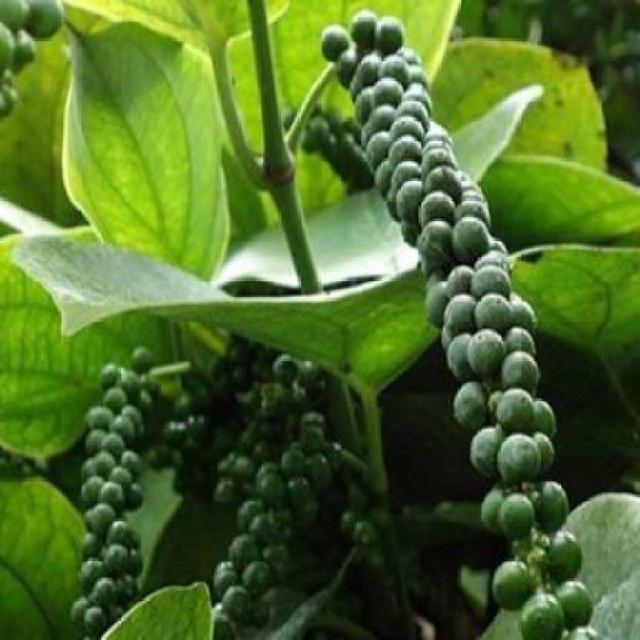UNRIPE: (322, 9, 593, 637), (212, 326, 311, 625), (92, 328, 185, 639)
